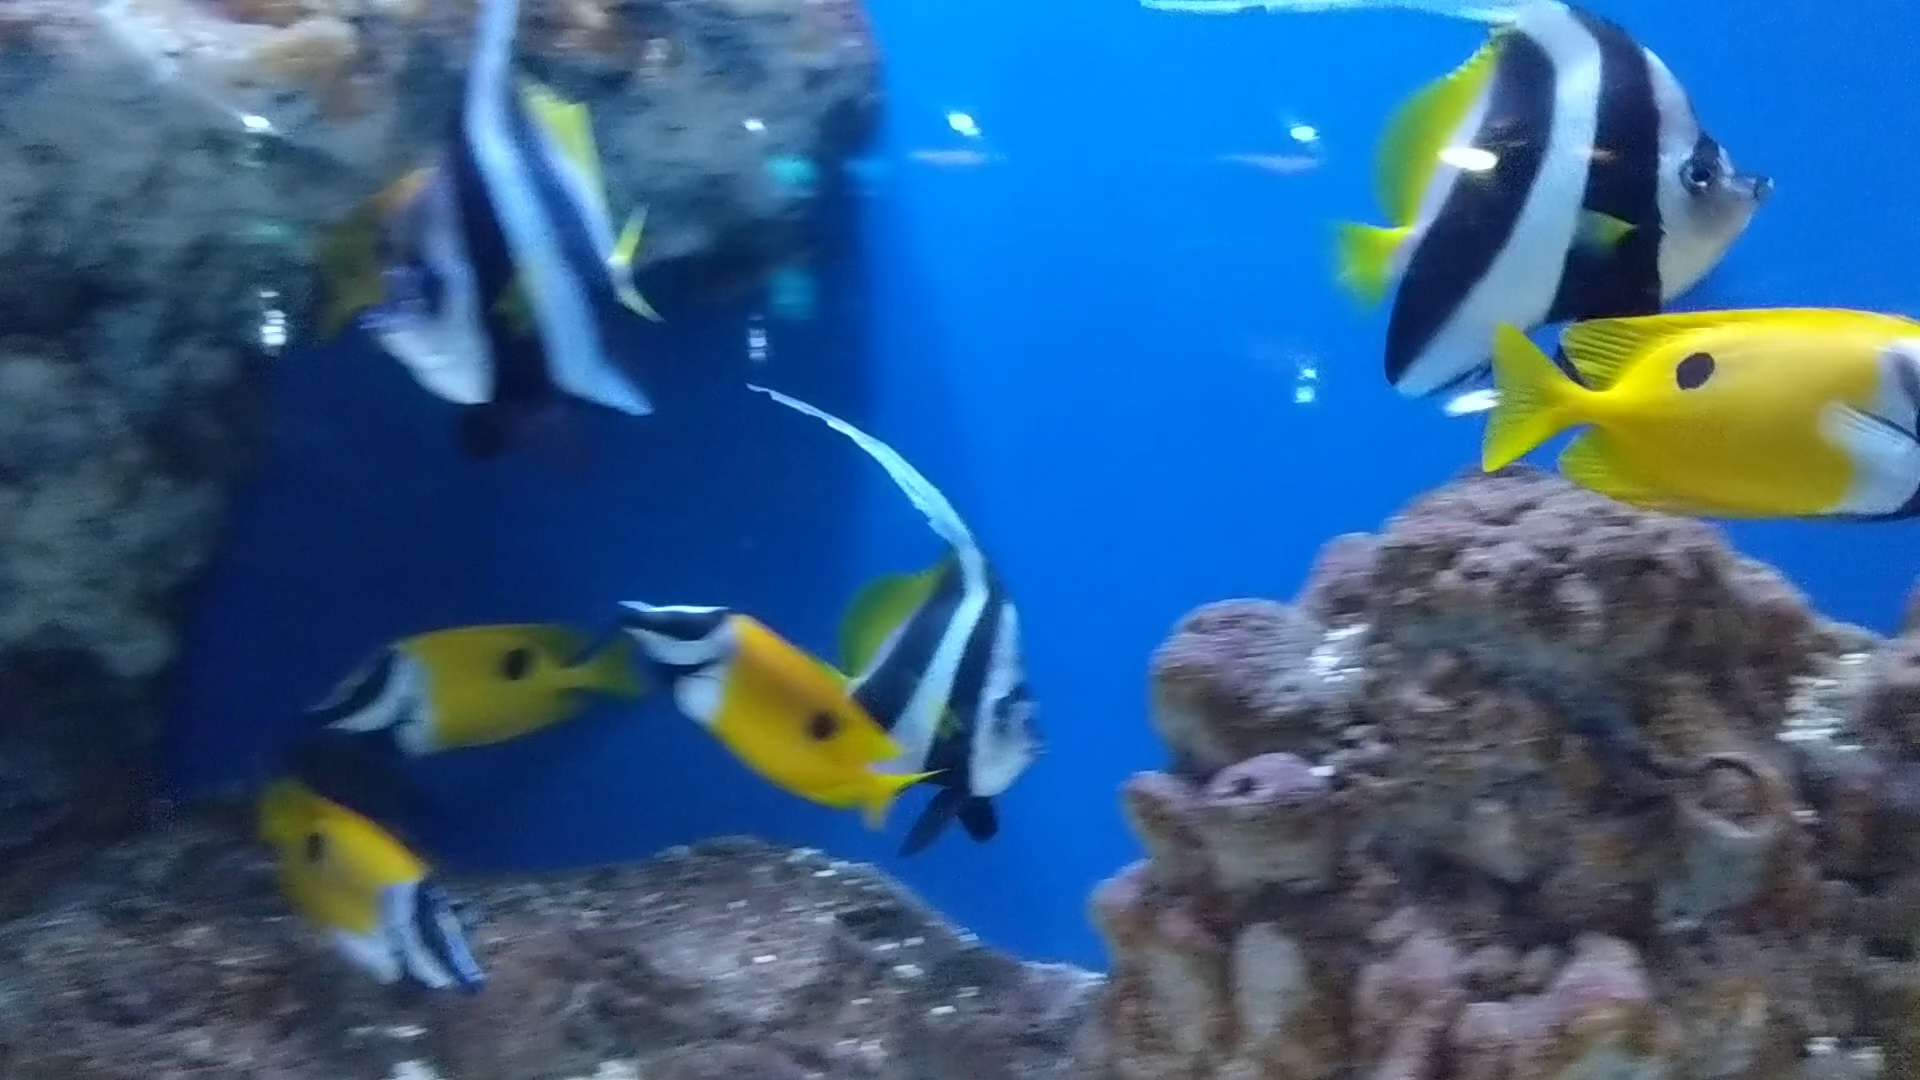moorfish: (1342, 7, 1799, 398), (746, 402, 1052, 800), (351, 30, 657, 410)
rabbitfish: (1470, 282, 1919, 541), (618, 592, 936, 832), (204, 774, 479, 1002), (278, 603, 626, 746)
